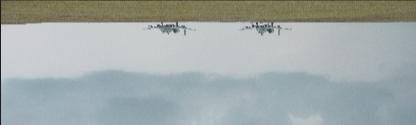A10: (238, 21, 291, 34), (143, 21, 195, 34)
